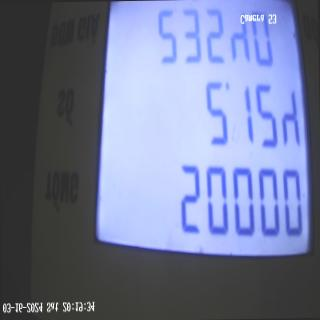screen: (84, 0, 317, 277)
